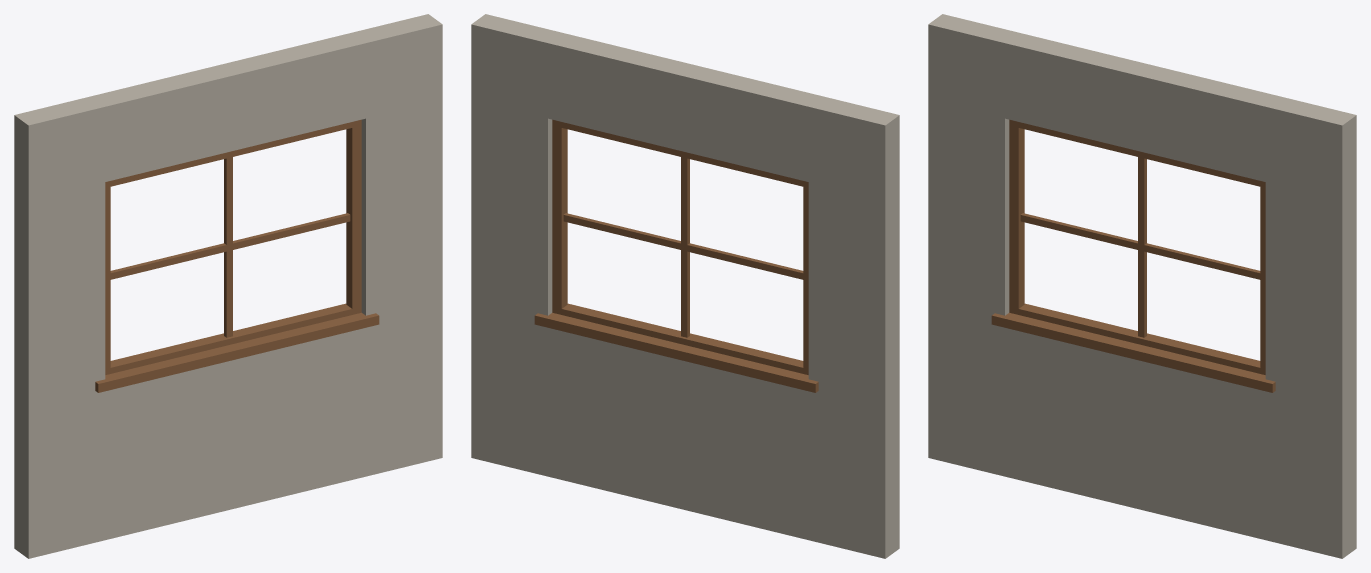
Rendered from Wall_11.fbx.
The picture shows the model from 3 angles, left to right: view 1: azimuth 30°, elevation 25°; view 2: azimuth 150°, elevation 25°; view 3: azimuth 330°, elevation 25°; orthographic projection.
Parts seen in each view (by area): view 1: Wall_11; view 2: Wall_11; view 3: Wall_11.
Boxes of the visible parts, box(x1,y1,x2,y2) form: Wall_11: box(14, 14, 442, 558); Wall_11: box(471, 14, 899, 558); Wall_11: box(928, 14, 1356, 558).
Size of the model in its own units: 259 by 259 by 22.34.
